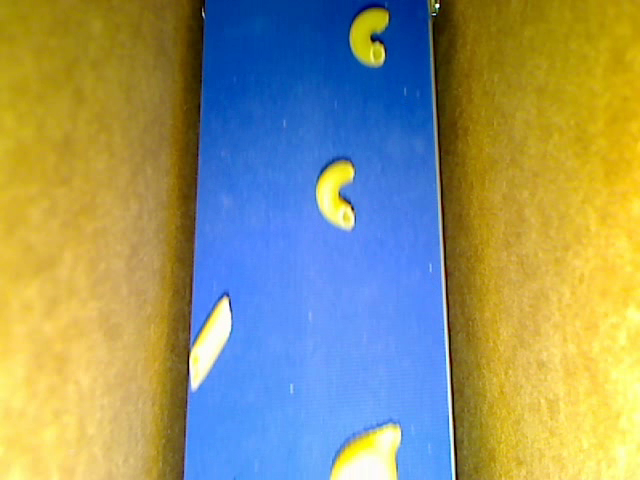elbow: (315, 160, 356, 230), (348, 7, 388, 65)
penne: (189, 294, 232, 390)
shell: (328, 422, 401, 479)
